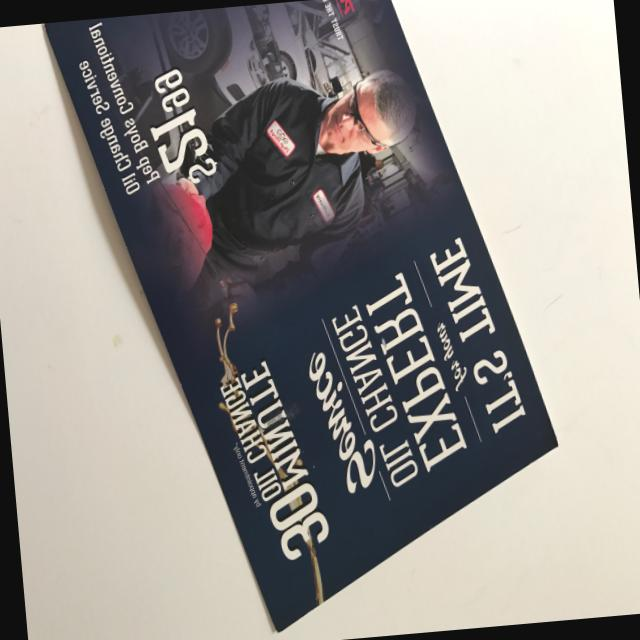Paper: (44, 0, 573, 640)
